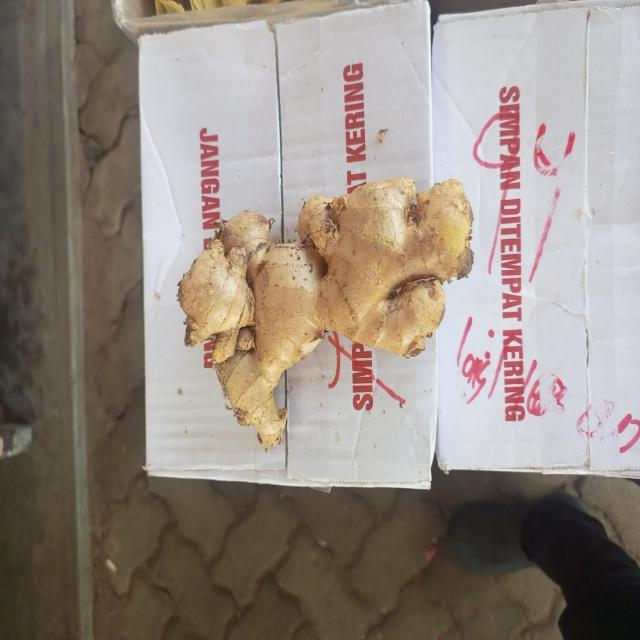ginger: (177, 179, 471, 412)
